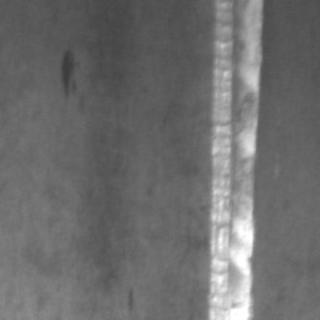inclusion: (54, 43, 80, 99)
scratches: (204, 0, 264, 316)
